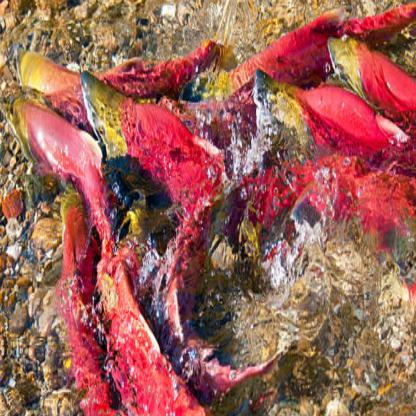sockeye-group: (15, 32, 250, 416), (259, 6, 416, 244)
